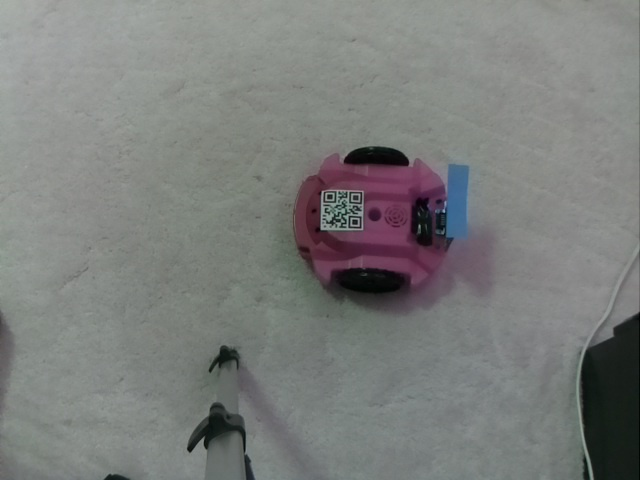chassis: (291, 145, 474, 301)
qr: (311, 185, 371, 236)
